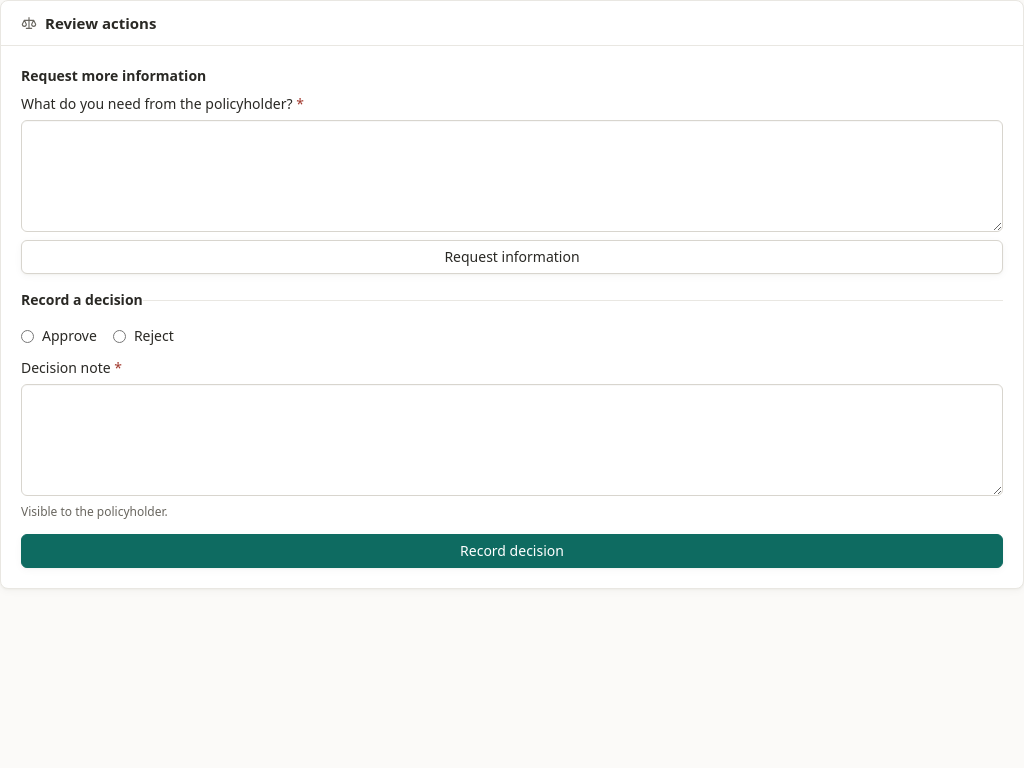
Test case: StaffReviewPanel › requires a reason before requesting information and a note before deciding
Click the button with test id "action-request-info": click(512, 257) [21,240,1003,274]
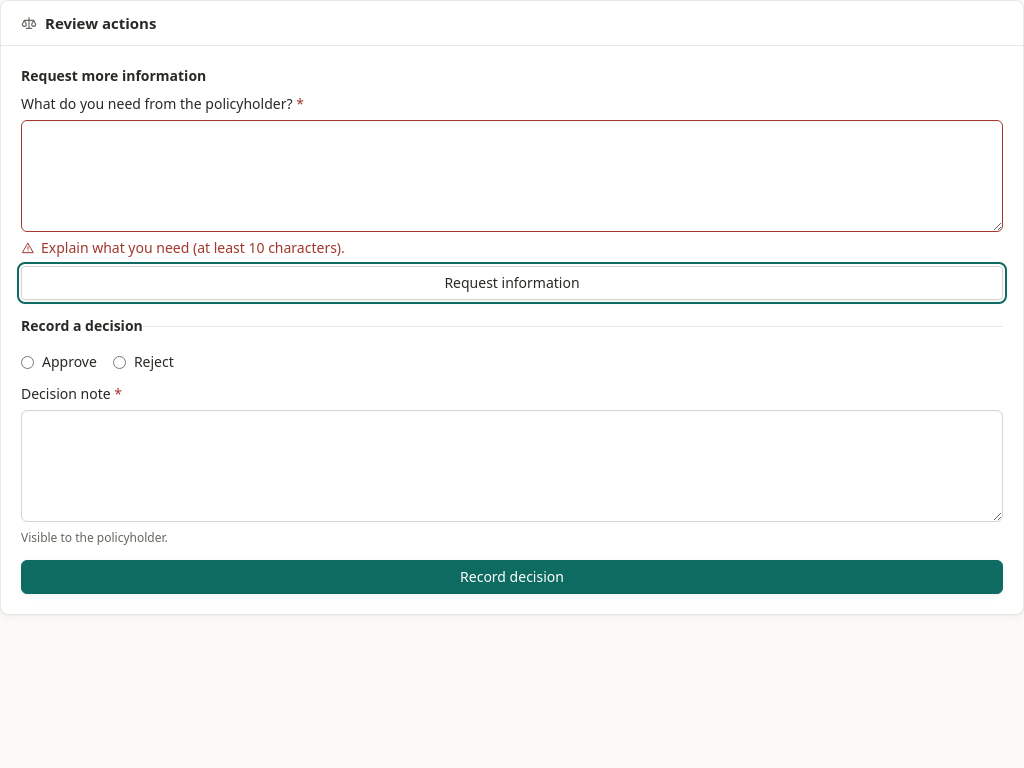
Result: the text "Explain what you need (at least 10 characters)." is shown at [21,238,345,257]
Click the radio button with test id "decision-rejected": click(119, 362) [113,356,126,368]
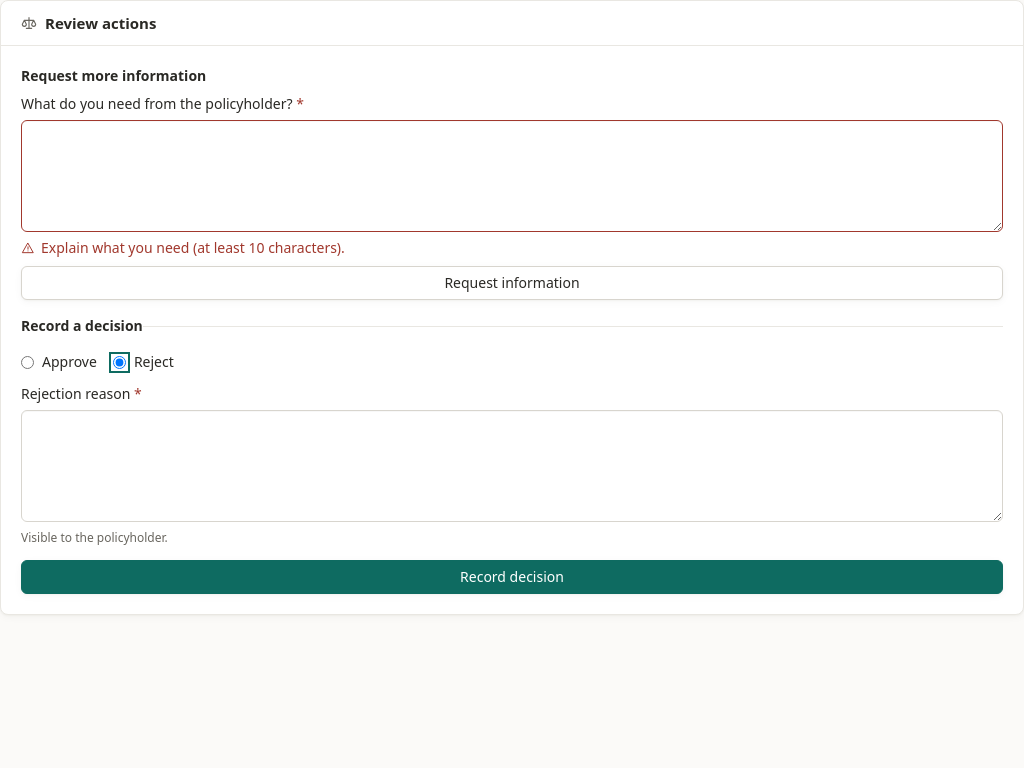
Click the button with test id "action-decide": click(512, 576) [21,560,1003,594]
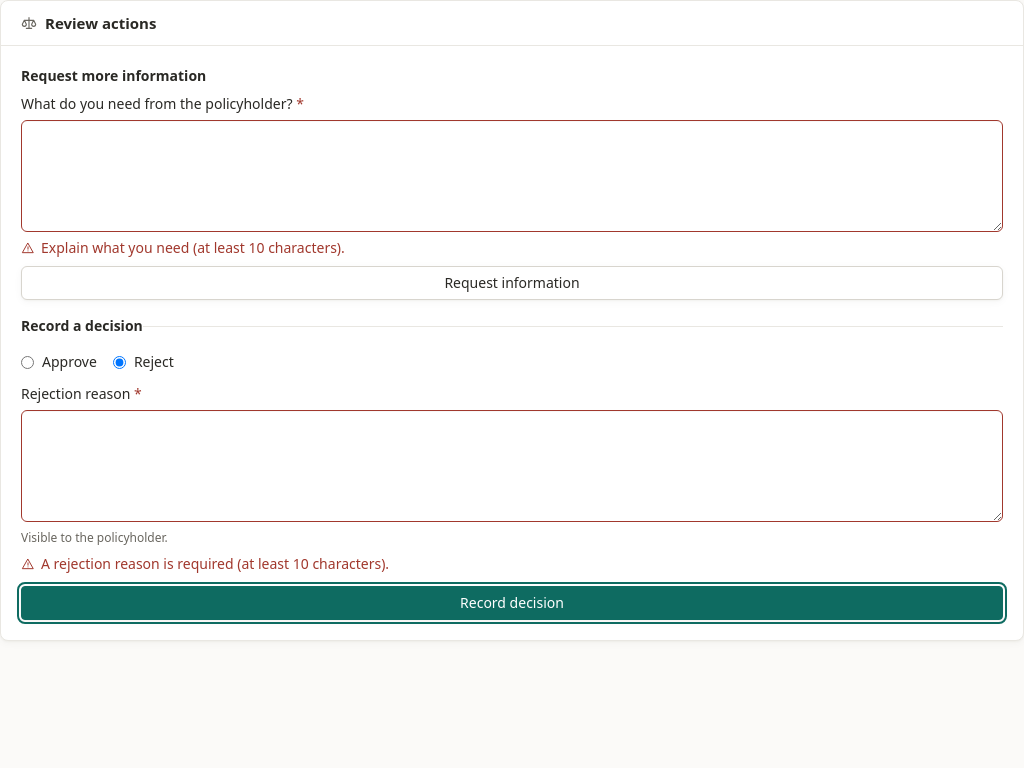
Result: the text "A rejection reason is required (at least 10 characters)." is shown at [21,554,389,572]
